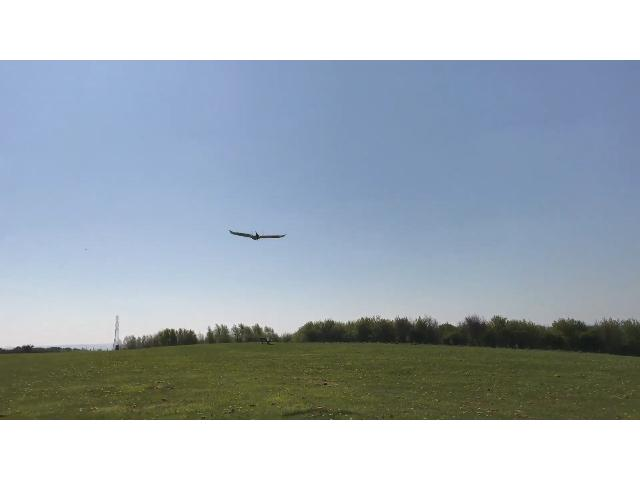Anti-Drone: (208, 200, 304, 253)
